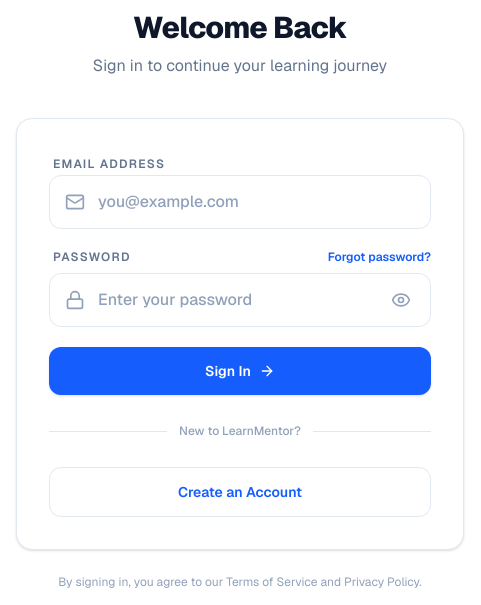
Login Page › shows loading state during login
This screenshot has width=481, height=605.
Type "test@example.com" into the field with placeholder "you@example.com" at coordinates (240, 202), box [49,175,431,229]
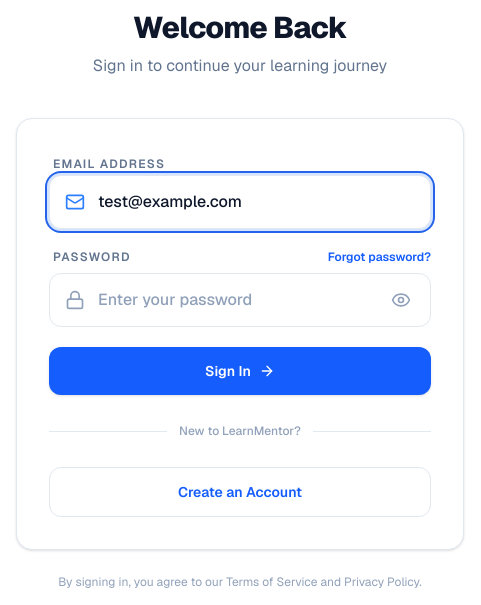
Type "password123" into the password field with placeholder "Enter your password" at coordinates (240, 300), box [49,273,431,327]
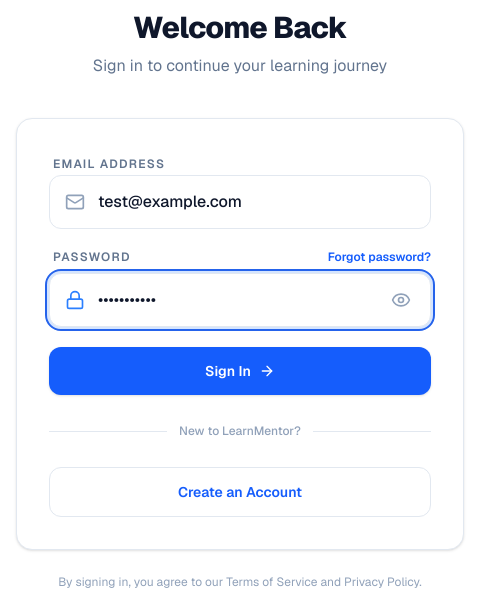
Click the button "Sign In" at coordinates (240, 371), box [49,347,431,395]
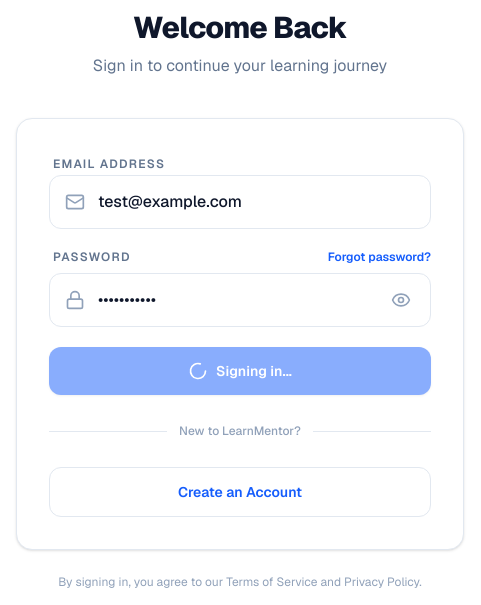
Result: the button "Signing in..." is disabled at [49,347,431,395]
